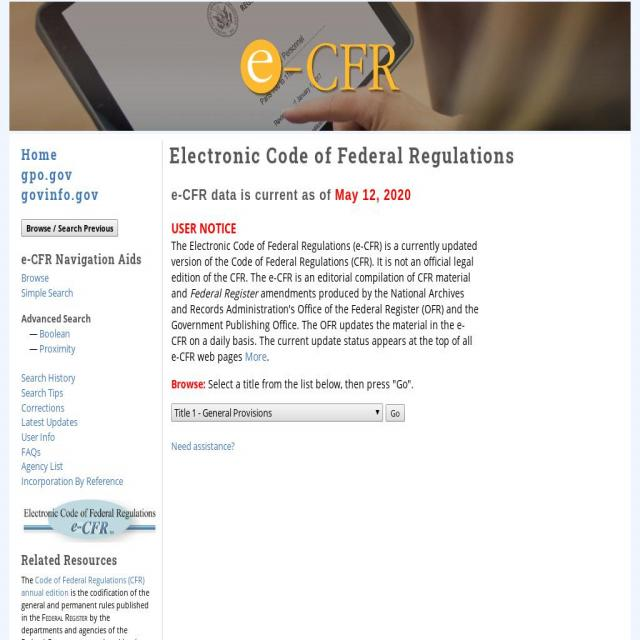list: (17, 274, 123, 487)
navigation-links: (13, 263, 130, 497)
options: (168, 398, 416, 434)
search: (19, 212, 128, 242)
